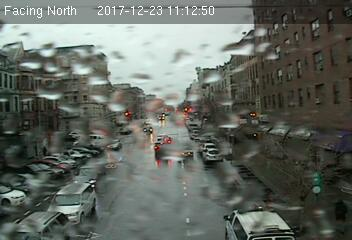car: (45, 182, 97, 224), (74, 163, 106, 185), (202, 149, 226, 162), (179, 145, 194, 158)
police: (220, 205, 294, 240)
